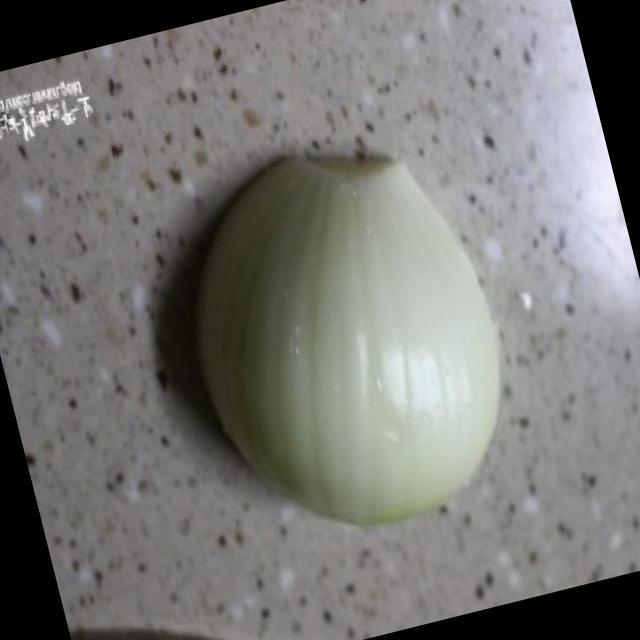Onion: (192, 157, 500, 525)
